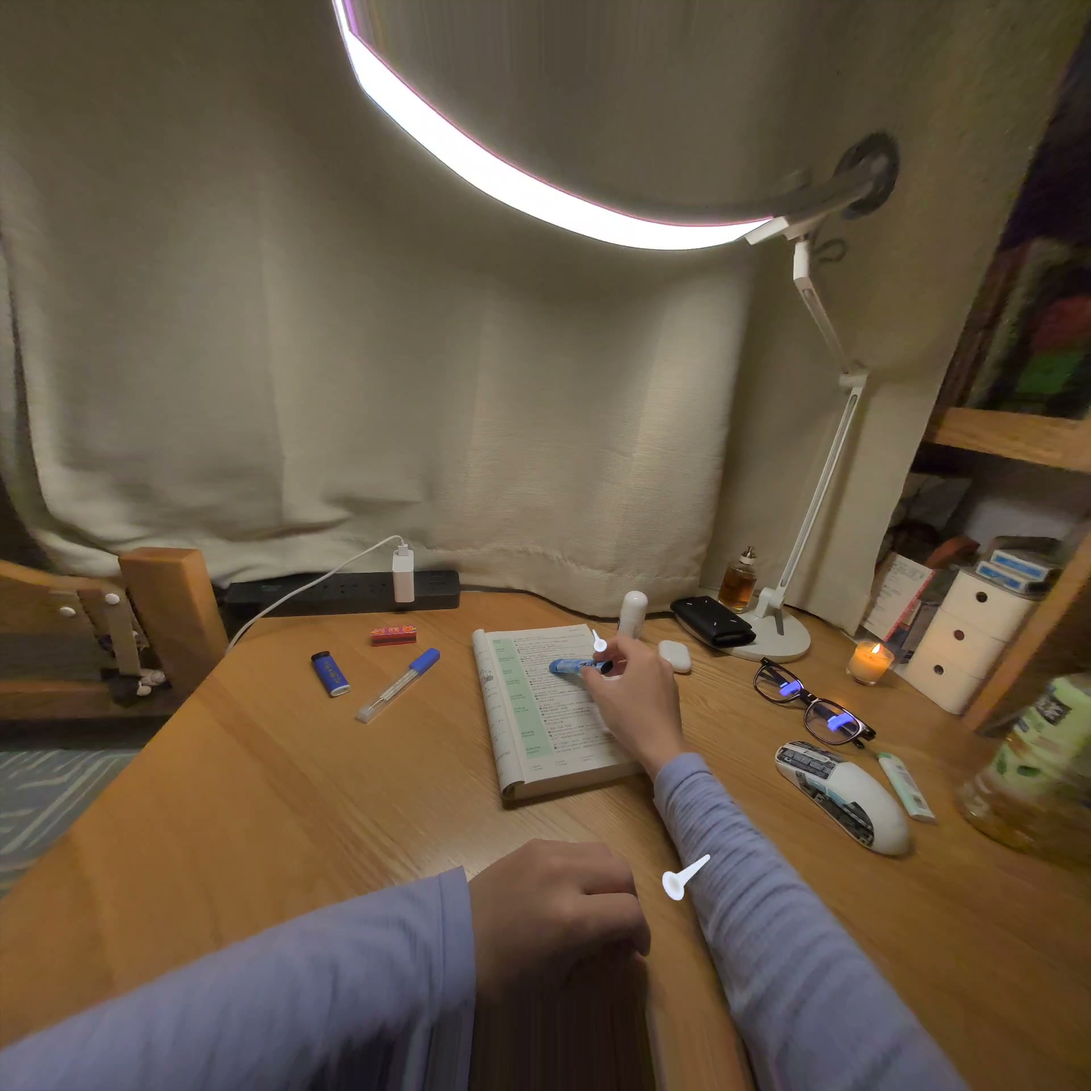lighter: (549, 659, 612, 675)
